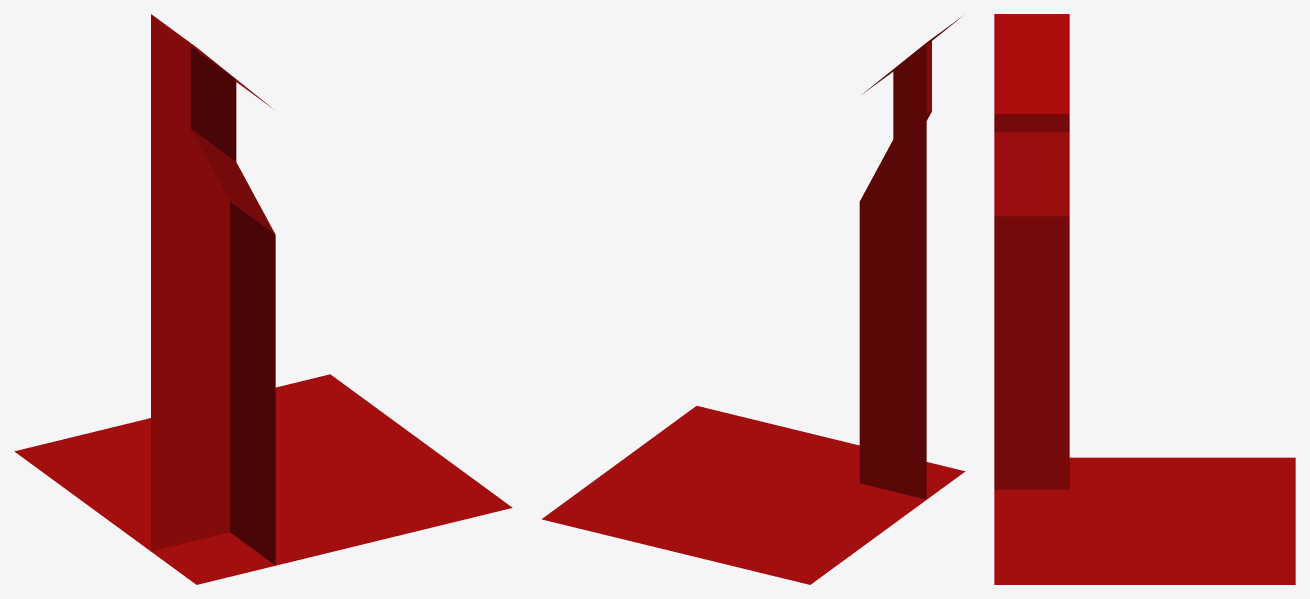
Rendered from mesh_barn_endR.fbx.
The picture shows the model from 3 angles, left to right: view 1: azimuth 30°, elevation 25°; view 2: azimuth 150°, elevation 25°; view 3: azimuth 270°, elevation 25°; orthographic projection. The views are drawn at different scales.
Parts seen in each view (by area): view 1: mesh_barn_endSmlR; view 2: mesh_barn_endSmlR; view 3: mesh_barn_endSmlR.
Boxes of the visible parts, x1,y1,x2,y2 form: mesh_barn_endSmlR: (14, 14, 512, 584); mesh_barn_endSmlR: (542, 17, 964, 584); mesh_barn_endSmlR: (994, 14, 1295, 584).
Size of the model in its own units: 400 by 650 by 400.
